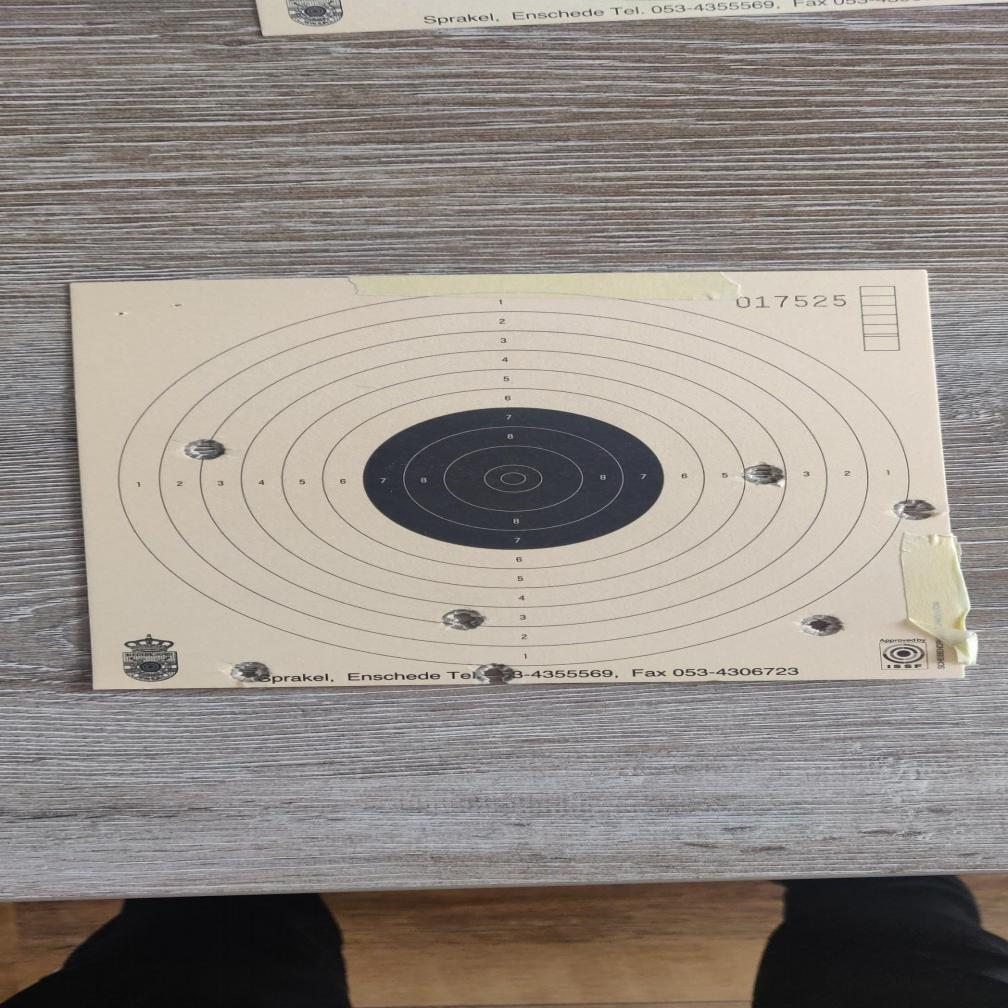0: (798, 614, 846, 638), (228, 661, 274, 683)
1: (893, 498, 937, 521), (472, 663, 518, 682)
3: (440, 608, 488, 632), (183, 438, 227, 460)
5: (741, 462, 784, 486)
Target: (115, 290, 914, 669)
black_contour: (363, 405, 665, 550)
